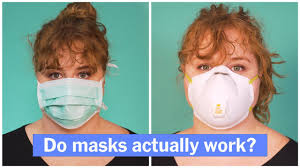masked: (180, 8, 268, 126), (27, 8, 111, 128)
